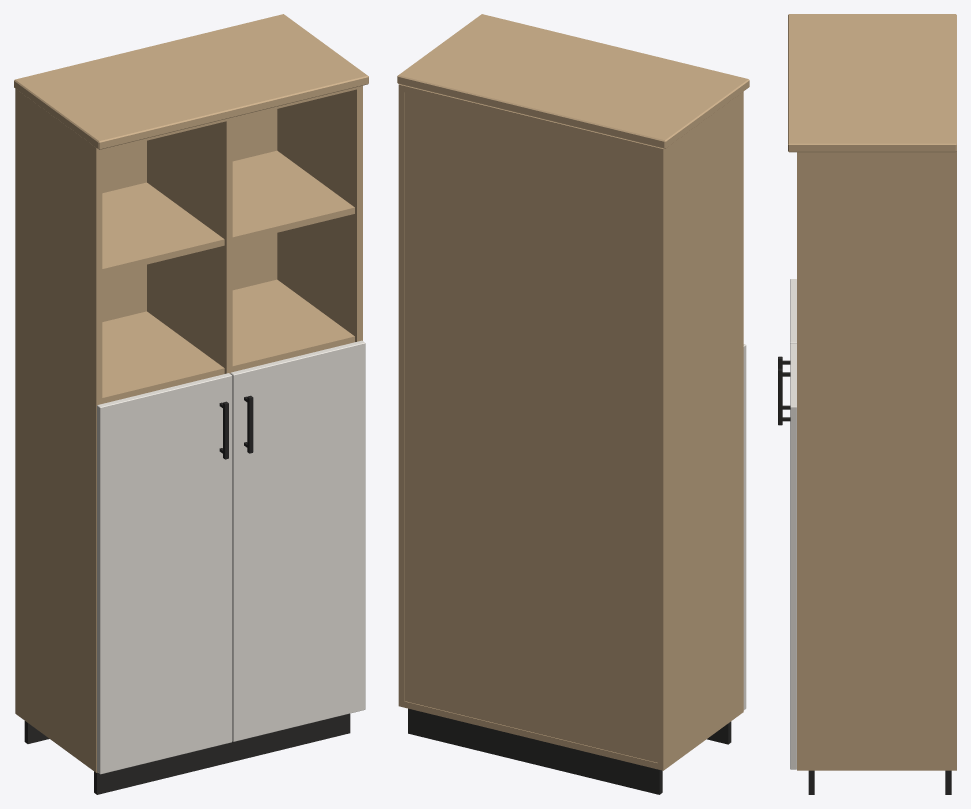
Rendered from 46_szafka_aktowa_80.glb.
The picture shows the model from 3 angles, left to right: view 1: azimuth 30°, elevation 25°; view 2: azimuth 150°, elevation 25°; view 3: azimuth 270°, elevation 25°; orthographic projection.
Visible parts, largest first — view 1: Korpus, Front_drzwi_3, Front_drzwi_6, Wierzch, Cokol, Uchwyty; view 2: Korpus, Wierzch, Cokol, Front_drzwi_3; view 3: Korpus, Wierzch, Front_drzwi_6, Uchwyty, Front_drzwi_3, Cokol.
Boxes of the visible parts, left/top/right/bottom form: Korpus: left=15, top=85, right=362, bottom=772; Front_drzwi_3: left=97, top=373, right=232, bottom=774; Front_drzwi_6: left=230, top=340, right=365, bottom=741; Wierzch: left=14, top=14, right=368, bottom=149; Cokol: left=24, top=713, right=350, bottom=794; Uchwyty: left=219, top=395, right=253, bottom=459; Korpus: left=398, top=84, right=743, bottom=770; Wierzch: left=397, top=14, right=749, bottom=148; Cokol: left=408, top=708, right=731, bottom=794; Front_drzwi_3: left=743, top=344, right=746, bottom=710; Korpus: left=797, top=151, right=956, bottom=770; Wierzch: left=788, top=14, right=956, bottom=152; Front_drzwi_6: left=790, top=343, right=796, bottom=769; Uchwyty: left=778, top=356, right=790, bottom=425; Front_drzwi_3: left=790, top=279, right=796, bottom=343; Cokol: left=808, top=770, right=951, bottom=794.
Size of the model in its own units: 0.812 by 1.9 by 0.47.
